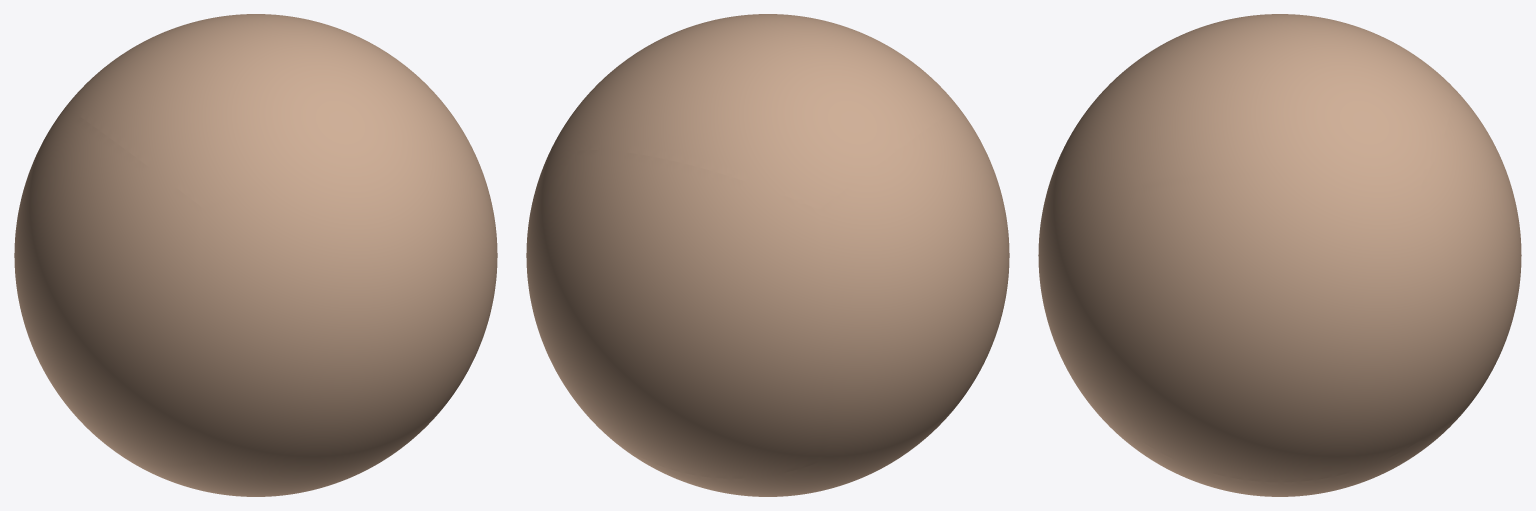
File: sculpt_base.glb
The picture shows the model from 3 angles, left to right: view 1: azimuth 30°, elevation 25°; view 2: azimuth 150°, elevation 25°; view 3: azimuth 270°, elevation 25°; orthographic projection.
Parts seen in each view (by area): view 1: Sculpt; view 2: Sculpt; view 3: Sculpt.
Part boxes in pixels (box(x1,y1,x2,y2)): Sculpt: box(14, 14, 497, 496); Sculpt: box(526, 14, 1009, 496); Sculpt: box(1038, 14, 1521, 496).
Bounding box in the file's own units: 1 × 1 × 1.
